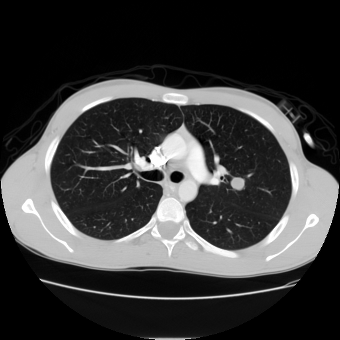nodule: (230, 176, 244, 190)
